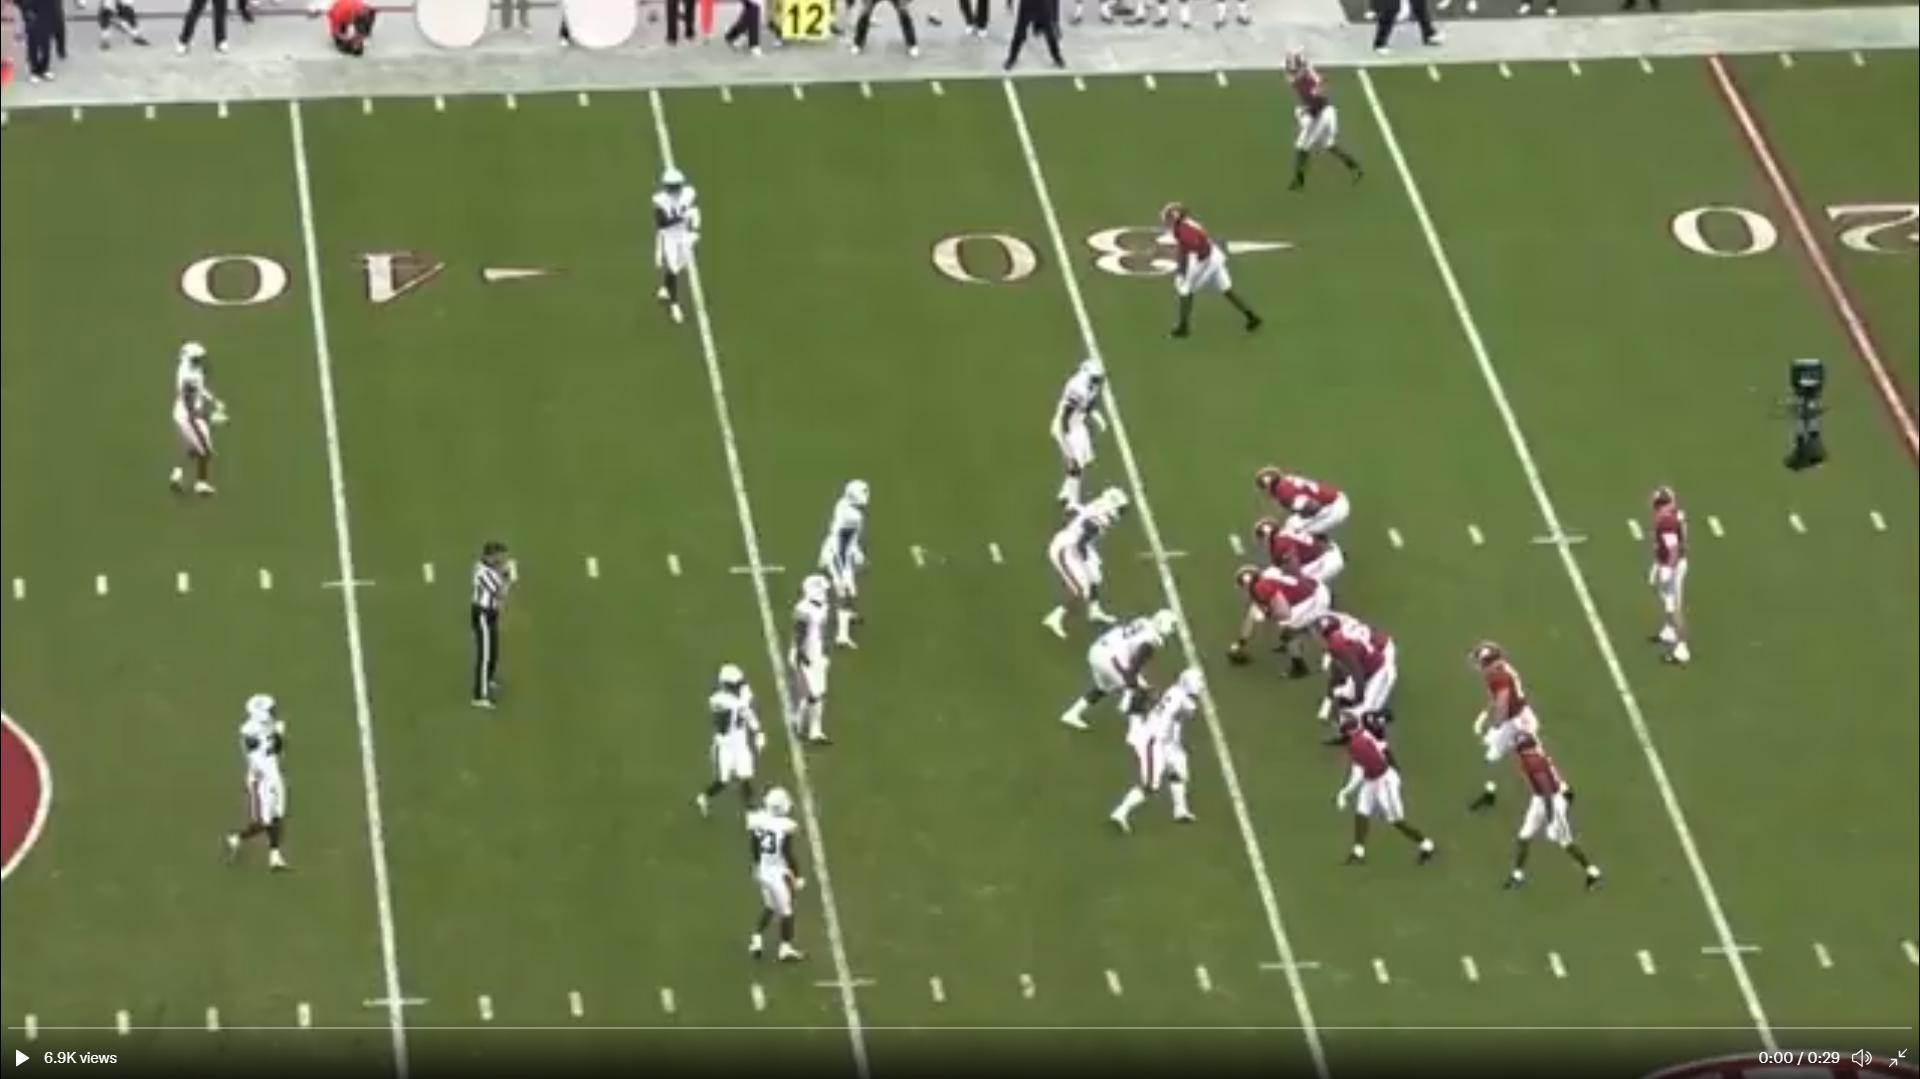player: (1494, 720, 1607, 906), (1319, 705, 1436, 878), (1098, 663, 1205, 838), (1154, 199, 1278, 350), (1052, 599, 1178, 737), (1464, 636, 1555, 820), (1041, 487, 1132, 650), (1279, 51, 1381, 196), (219, 685, 296, 876), (747, 786, 819, 970), (1641, 478, 1708, 671), (786, 568, 853, 760), (1230, 560, 1335, 680), (1043, 352, 1122, 511), (686, 661, 762, 824), (163, 333, 234, 507), (1314, 618, 1408, 749), (821, 479, 884, 658), (640, 166, 706, 335), (1250, 460, 1353, 536), (1248, 513, 1346, 589), (1308, 605, 1398, 670)
ref: (457, 536, 513, 726), (996, 0, 1082, 78), (1372, 0, 1449, 54)
